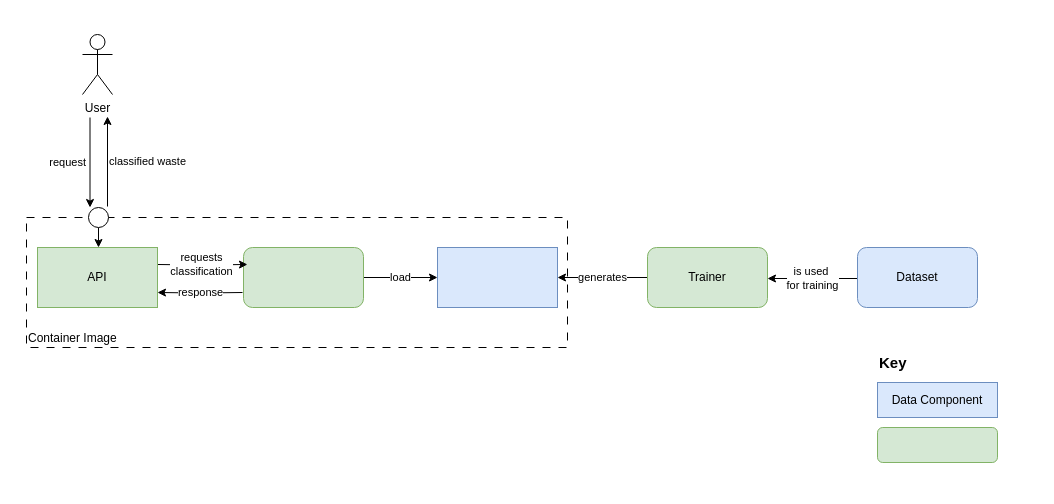
Some shapes in this 1054 by 504 pixel diagram are drawn without their labels. Here are the shapes that lost their labels. From the top down, the centre of each, then its label:
(x=303, y=277): Predict
(x=497, y=277): Model
(x=937, y=444): Code Component
